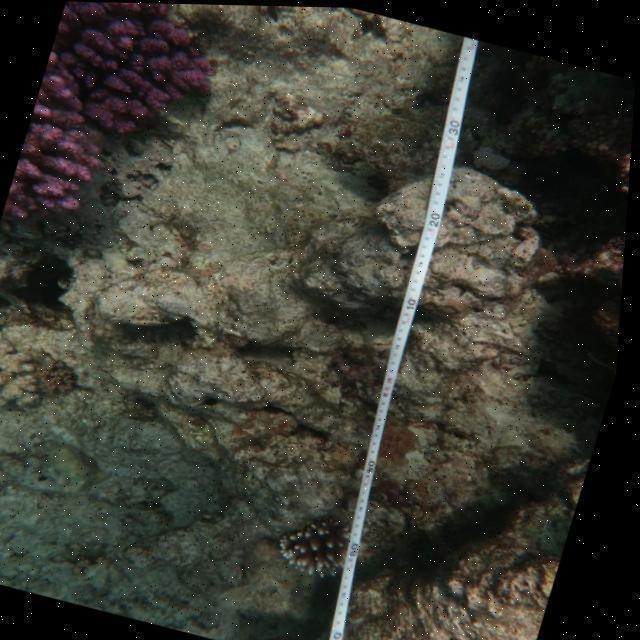Healthy Coral: (2, 1, 251, 261)
